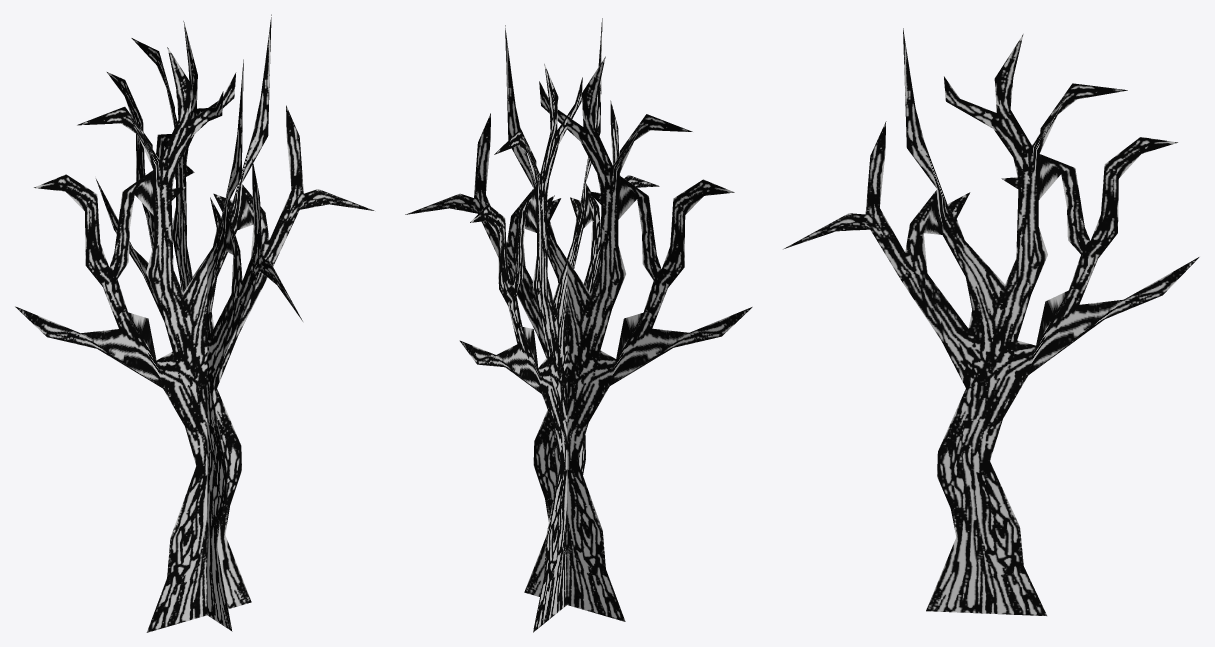
The model's file is tree3.obj.
3 renders of one model, left to right at view 1: azimuth 30°, elevation 25°; view 2: azimuth 150°, elevation 25°; view 3: azimuth 270°, elevation 25°, orthographic. The views are drawn at different scales.
Parts seen in each view (by area): view 1: Plane.027; view 2: Plane.027; view 3: Plane.027.
Boxes of the visible parts, x1=… form: Plane.027: x1=14, y1=14, x2=374, y2=632; Plane.027: x1=405, y1=18, x2=752, y2=632; Plane.027: x1=783, y1=28, x2=1199, y2=615.
Bounding box in the file's own units: 2.59 × 4.02 × 2.59.
Materials: 2 (2 with a texture image).
